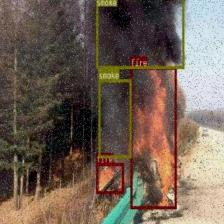smoke: (96, 0, 184, 68), (98, 79, 132, 158)
